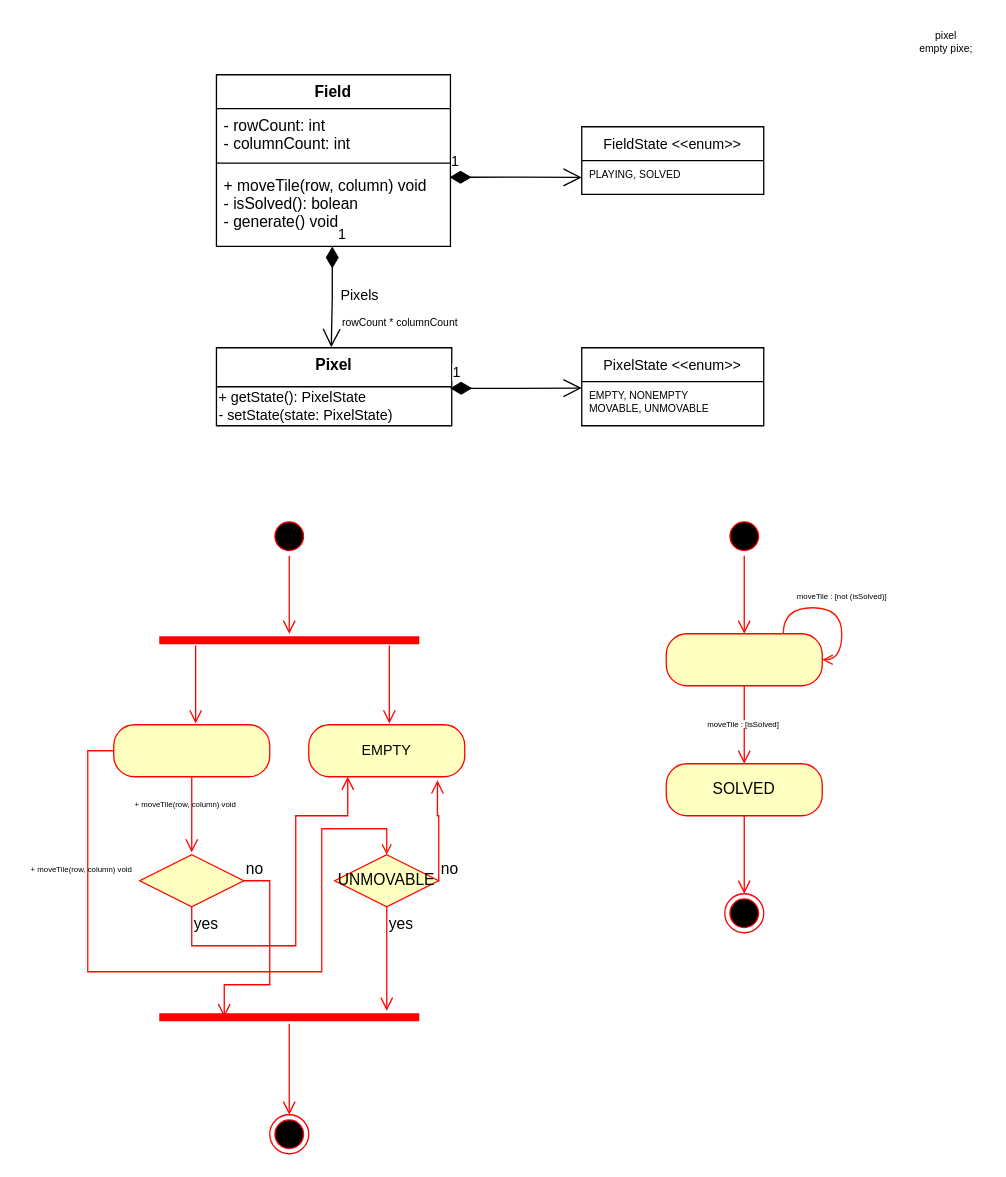
Some shapes in this 1006 by 1177 pixel diagram are drawn without their labels. Each missing label, with the centre of its shape:
"MOVABLE" goes at pixel 191 880.
"NONEMPTY" goes at pixel 191 750.
"PLAYING" goes at pixel 743 659.
